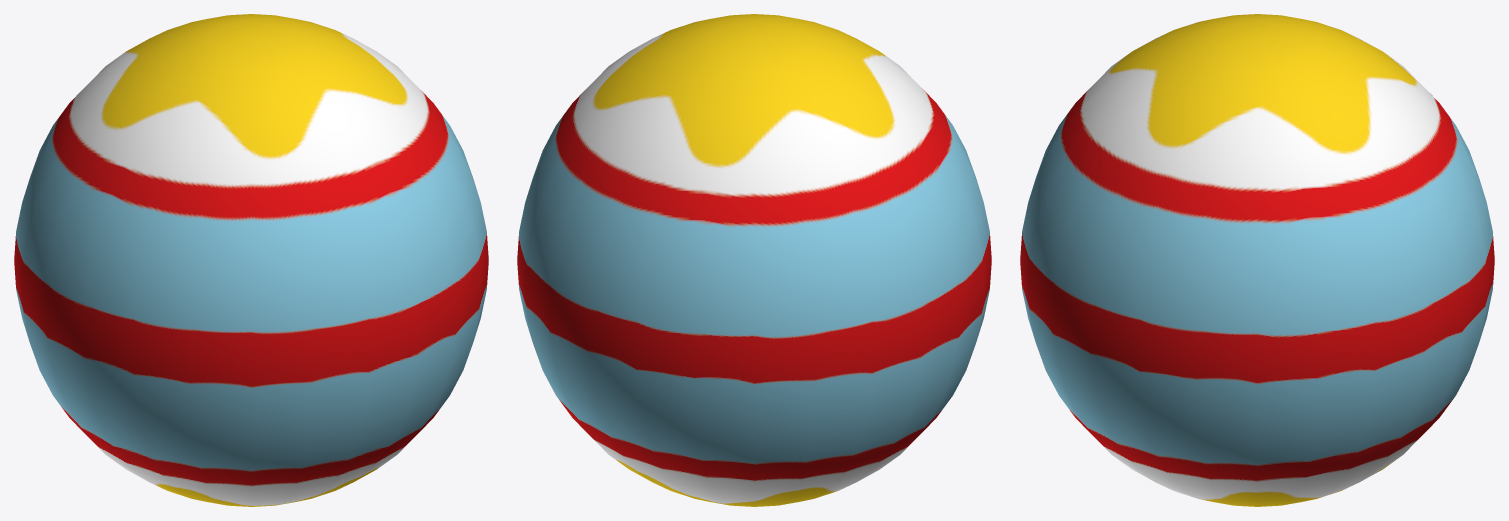
Rendered from Pelota.fbx.
3 views of the same model, side by side, from view 1: azimuth 30°, elevation 25°; view 2: azimuth 150°, elevation 25°; view 3: azimuth 270°, elevation 25° (orthographic).
Parts seen in each view (by area): view 1: Sphere; view 2: Sphere; view 3: Sphere.
Part boxes in pixels (<box>): Sphere: <box>14,14,488,506</box>; Sphere: <box>517,14,991,506</box>; Sphere: <box>1020,14,1494,506</box>.
Bounding box in the file's own units: 189 × 198 × 189.
Materials: 1 (1 with a texture image).
